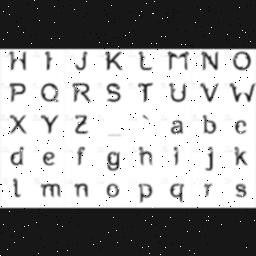h: (2, 50, 36, 80)
i: (42, 49, 58, 71)
